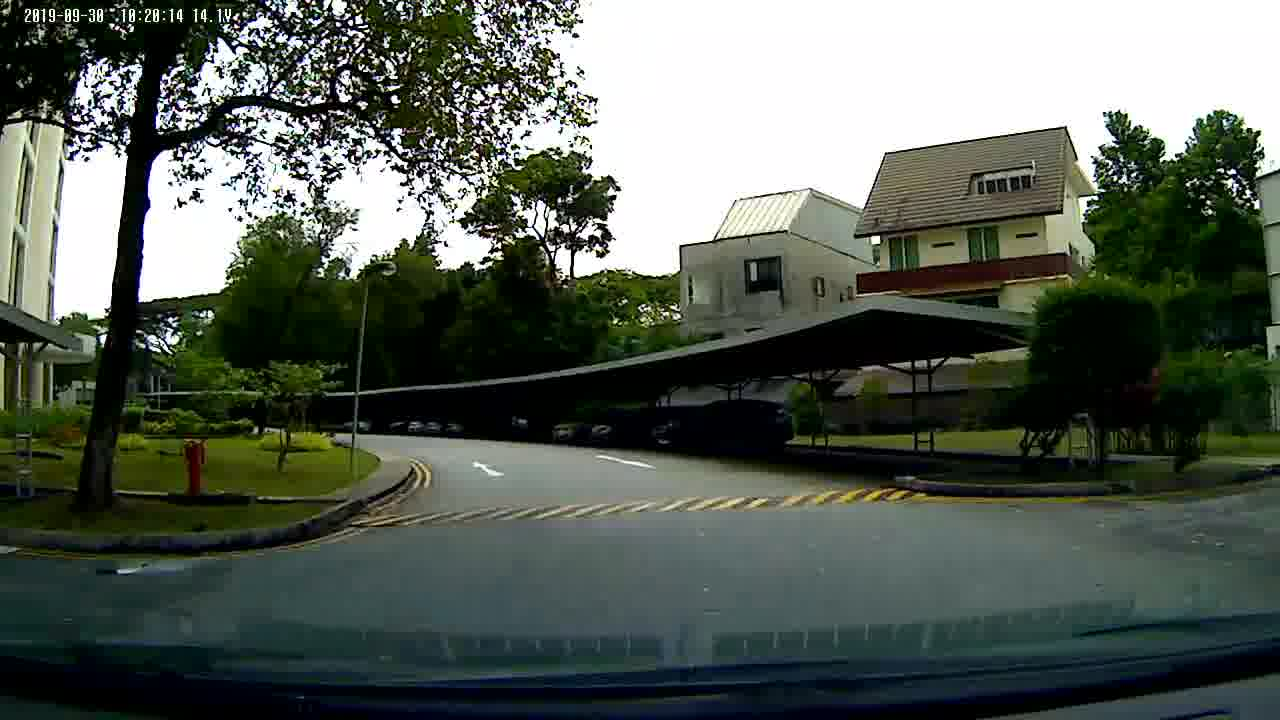car: (644, 399, 800, 462)
